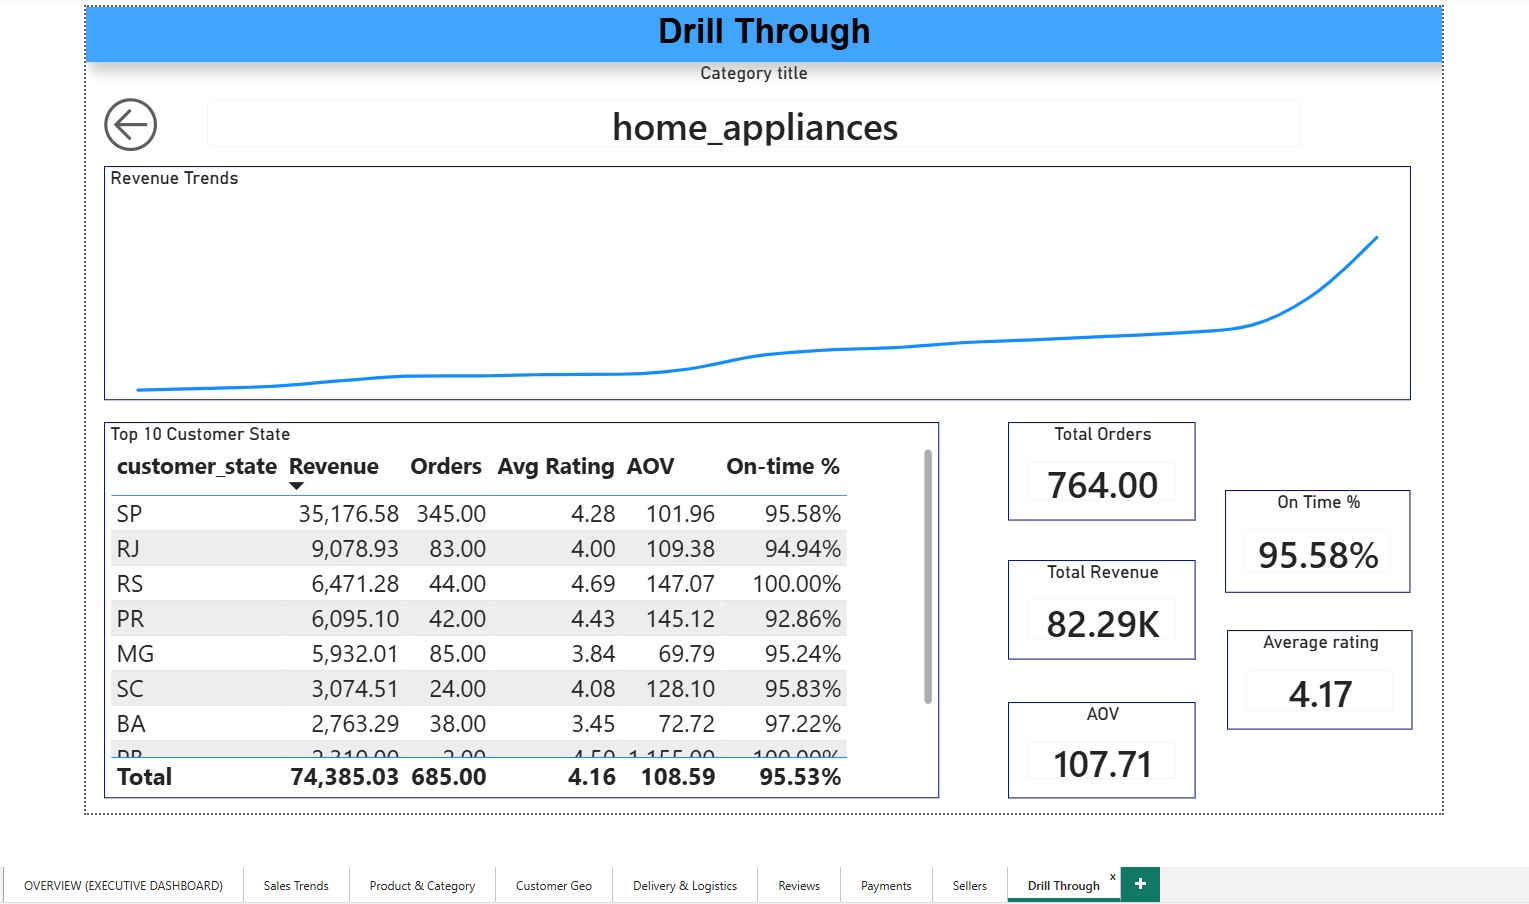

The dashboard page shown, as its layout file describes it:
{"tool":"powerbi","page":{"name":"Drill Through","canvas":[1280,760],"ordinal":8},"visuals":[{"type":"actionButton","box":[10.4,79.1,71,63.5],"z":0},{"type":"cardVisual","title":"Category title","fields":{"Data":["public bi_fact_sales.Drill Title"]},"box":[96.9,52.1,1066.7,97.9],"z":1000},{"type":"cardVisual","title":"Total Revenue","fields":{"Data":["public bi_fact_sales.Revenue"]},"box":[869.9,521.8,177.1,94.4],"z":2000},{"type":"cardVisual","title":"Total Orders","fields":{"Data":["public bi_fact_sales.Orders"]},"box":[869.9,391.5,177.1,92.7],"z":3000},{"type":"cardVisual","title":"AOV","fields":{"Data":["public bi_fact_sales.AOV"]},"box":[869.9,655.5,177.1,91],"z":4000},{"type":"cardVisual","title":"On Time %","fields":{"Data":["public bi_fact_sales.On-time %"]},"box":[1074.4,455.8,175.4,96.9],"z":5000},{"type":"cardVisual","title":"Average rating","fields":{"Data":["public bi_fact_sales.Avg Rating"]},"box":[1076.1,587.8,175.4,94.4],"z":6000},{"type":"lineChart","title":"Revenue Trends","fields":{"Category":["DimDate.Year-Month"],"Y":["public bi_fact_sales.Revenue"]},"box":[17.1,150.1,1232.9,221.3],"z":7000},{"type":"tableEx","title":"Top 10 Customer State","fields":{"Values":["public bi_fact_sales.customer_state","public bi_fact_sales.Revenue","public bi_fact_sales.Orders","public bi_fact_sales.Avg Rating","public bi_fact_sales.AOV","public bi_fact_sales.On-time %"]},"box":[17.1,391.5,787.7,355],"z":8000},{"type":"textbox","box":[0,0,1280.2,52.1],"z":9000}]}

Visuals, with their boxes on the page's 1280x760 design canvas (x1, y1, x2, y2). These are canvas units, not pixel positions in the 1529x904 screenshot, which may show the page scaled, cropped or inside an application window:
actionButton: {"x1": 10, "y1": 79, "x2": 81, "y2": 143}
"Category title" cardVisual: {"x1": 97, "y1": 52, "x2": 1164, "y2": 150}
"Total Revenue" cardVisual: {"x1": 870, "y1": 522, "x2": 1047, "y2": 616}
"Total Orders" cardVisual: {"x1": 870, "y1": 392, "x2": 1047, "y2": 484}
"AOV" cardVisual: {"x1": 870, "y1": 656, "x2": 1047, "y2": 746}
"On Time %" cardVisual: {"x1": 1074, "y1": 456, "x2": 1250, "y2": 553}
"Average rating" cardVisual: {"x1": 1076, "y1": 588, "x2": 1252, "y2": 682}
"Revenue Trends" lineChart: {"x1": 17, "y1": 150, "x2": 1250, "y2": 371}
"Top 10 Customer State" tableEx: {"x1": 17, "y1": 392, "x2": 805, "y2": 746}
textbox: {"x1": 0, "y1": 0, "x2": 1280, "y2": 52}
